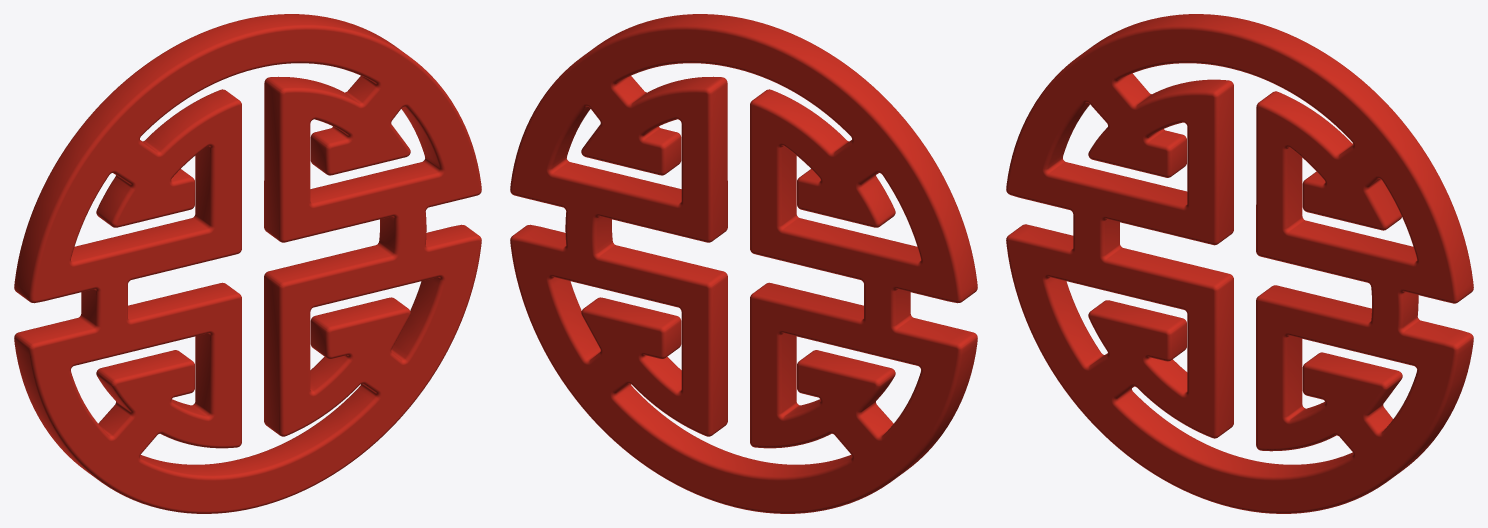
Rendered from shou-cruz-ligera.glb.
The picture shows the model from 3 angles, left to right: view 1: azimuth 30°, elevation 25°; view 2: azimuth 150°, elevation 25°; view 3: azimuth 330°, elevation 25°; orthographic projection.
Parts seen in each view (by area): view 1: geometry_0; view 2: geometry_0; view 3: geometry_0.
Part boxes in pixels (left/top/right/bottom): geometry_0: left=14, top=14, right=481, bottom=513; geometry_0: left=510, top=14, right=977, bottom=513; geometry_0: left=1006, top=14, right=1473, bottom=513.
Size of the model in its own units: 0.9939 by 1 by 0.0699.
